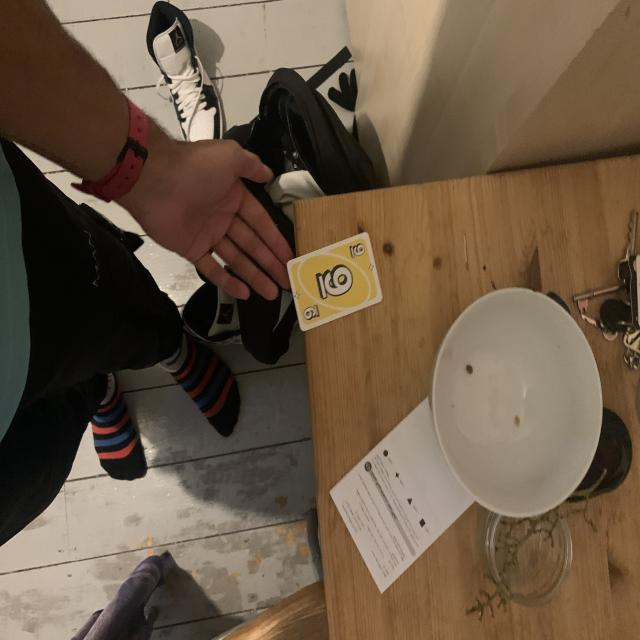lyellow-9: (346, 239, 366, 263)
